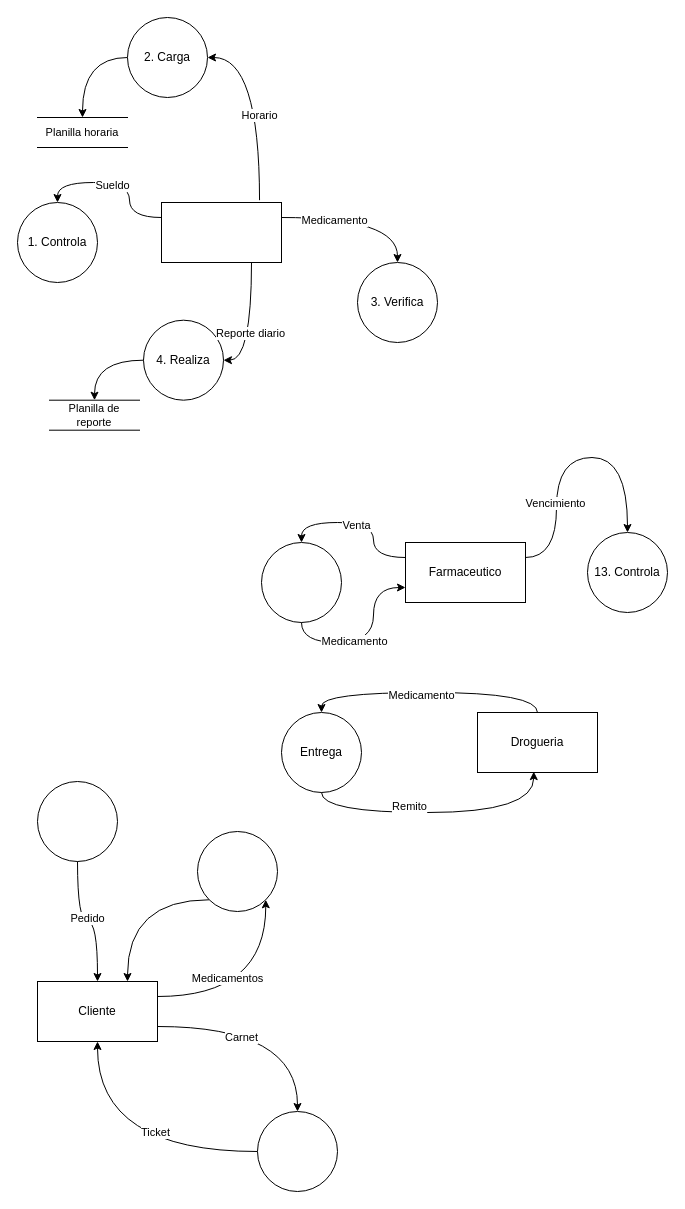
The diagram is 685 pixels wide and 1209 high, and some of its shapes have lost their labels. The centre of each missing label's shape, as x and y in pixels:
11. Registra: the point at 301,582
5. Solicita: the point at 237,871
6. Entrega: the point at 297,1151
7. Recibe: the point at 77,821
Gerente: the point at 221,232
